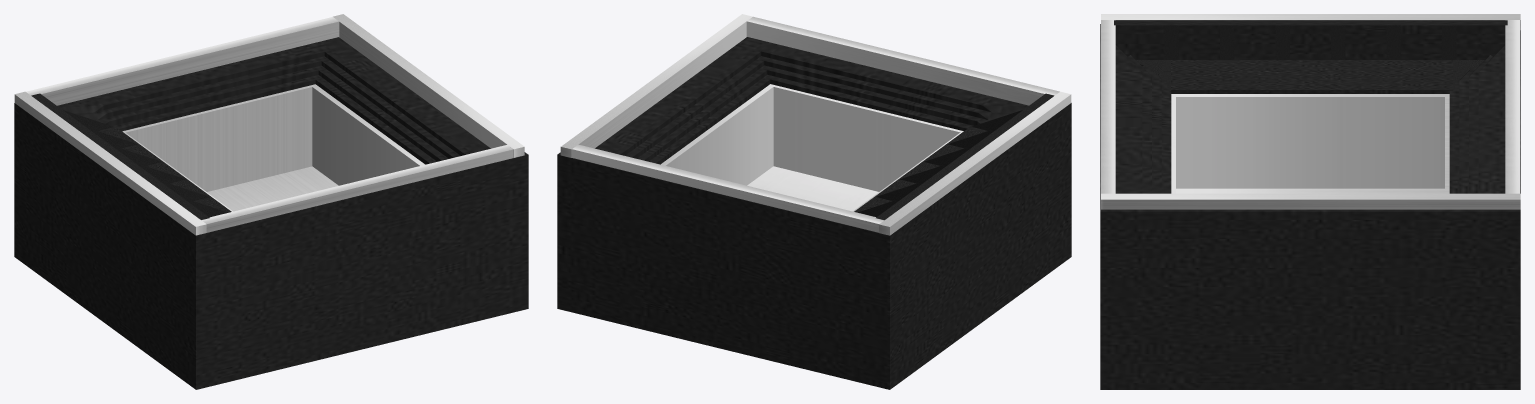
Rendered from Dice Container_nocapet.fbx.
The picture shows the model from 3 angles, left to right: view 1: azimuth 30°, elevation 25°; view 2: azimuth 150°, elevation 25°; view 3: azimuth 270°, elevation 25°; orthographic projection. The views are drawn at different scales.
Parts seen in each view (by area): view 1: Dice Contaiber; view 2: Dice Contaiber; view 3: Dice Contaiber.
Boxes of the visible parts, x1,y1,x2,y2 form: Dice Contaiber: (14,14,528,389); Dice Contaiber: (557,14,1071,389); Dice Contaiber: (1100,14,1520,389).
Size of the model in its own units: 384 by 180 by 364.
8 materials, 8 textured.
